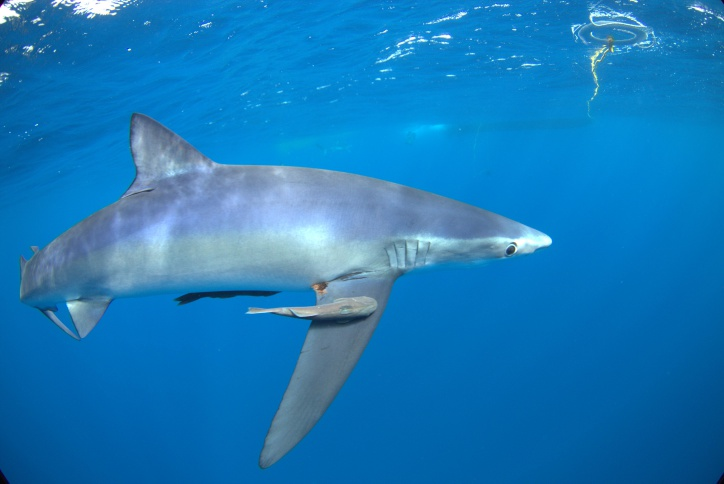Azul: (1, 101, 625, 472)
